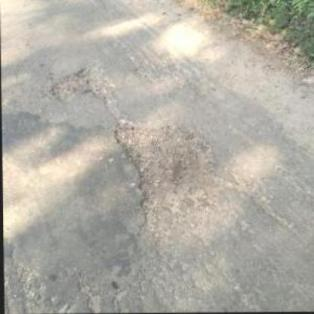Hueco: (111, 121, 222, 218), (48, 63, 111, 102)
